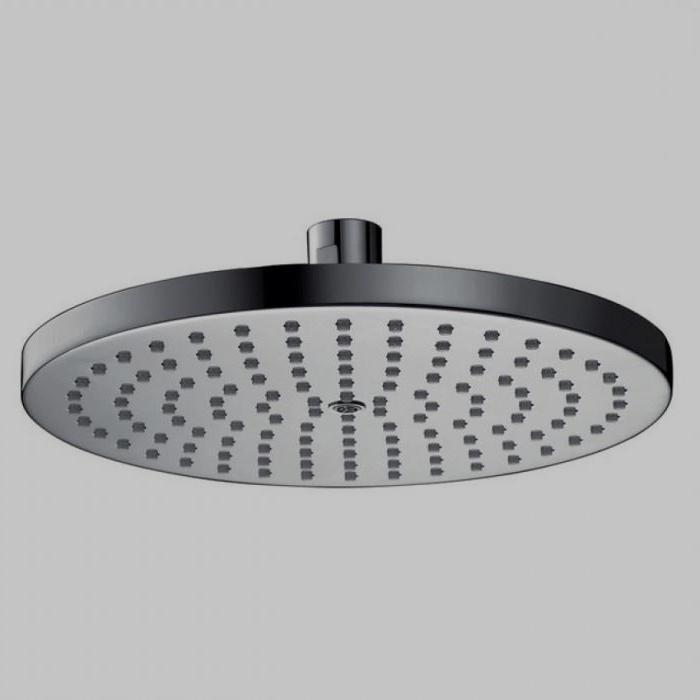Ducha: (10, 206, 681, 504)
